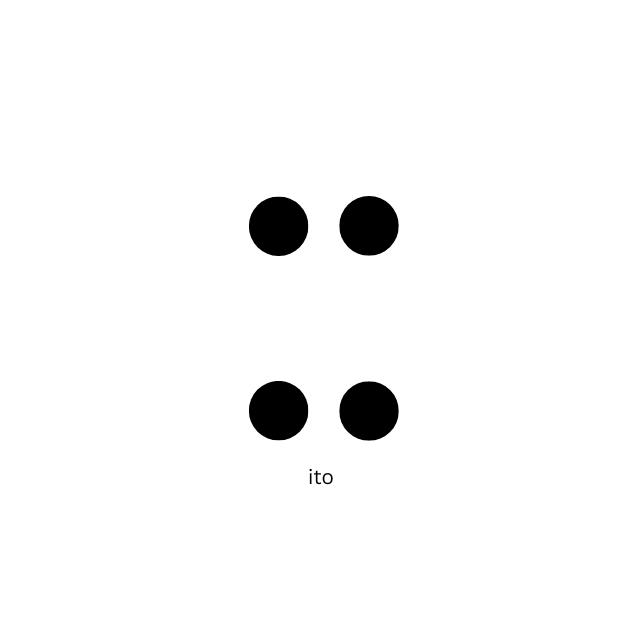one_cell_alphabet_ito: (247, 193, 401, 445)
